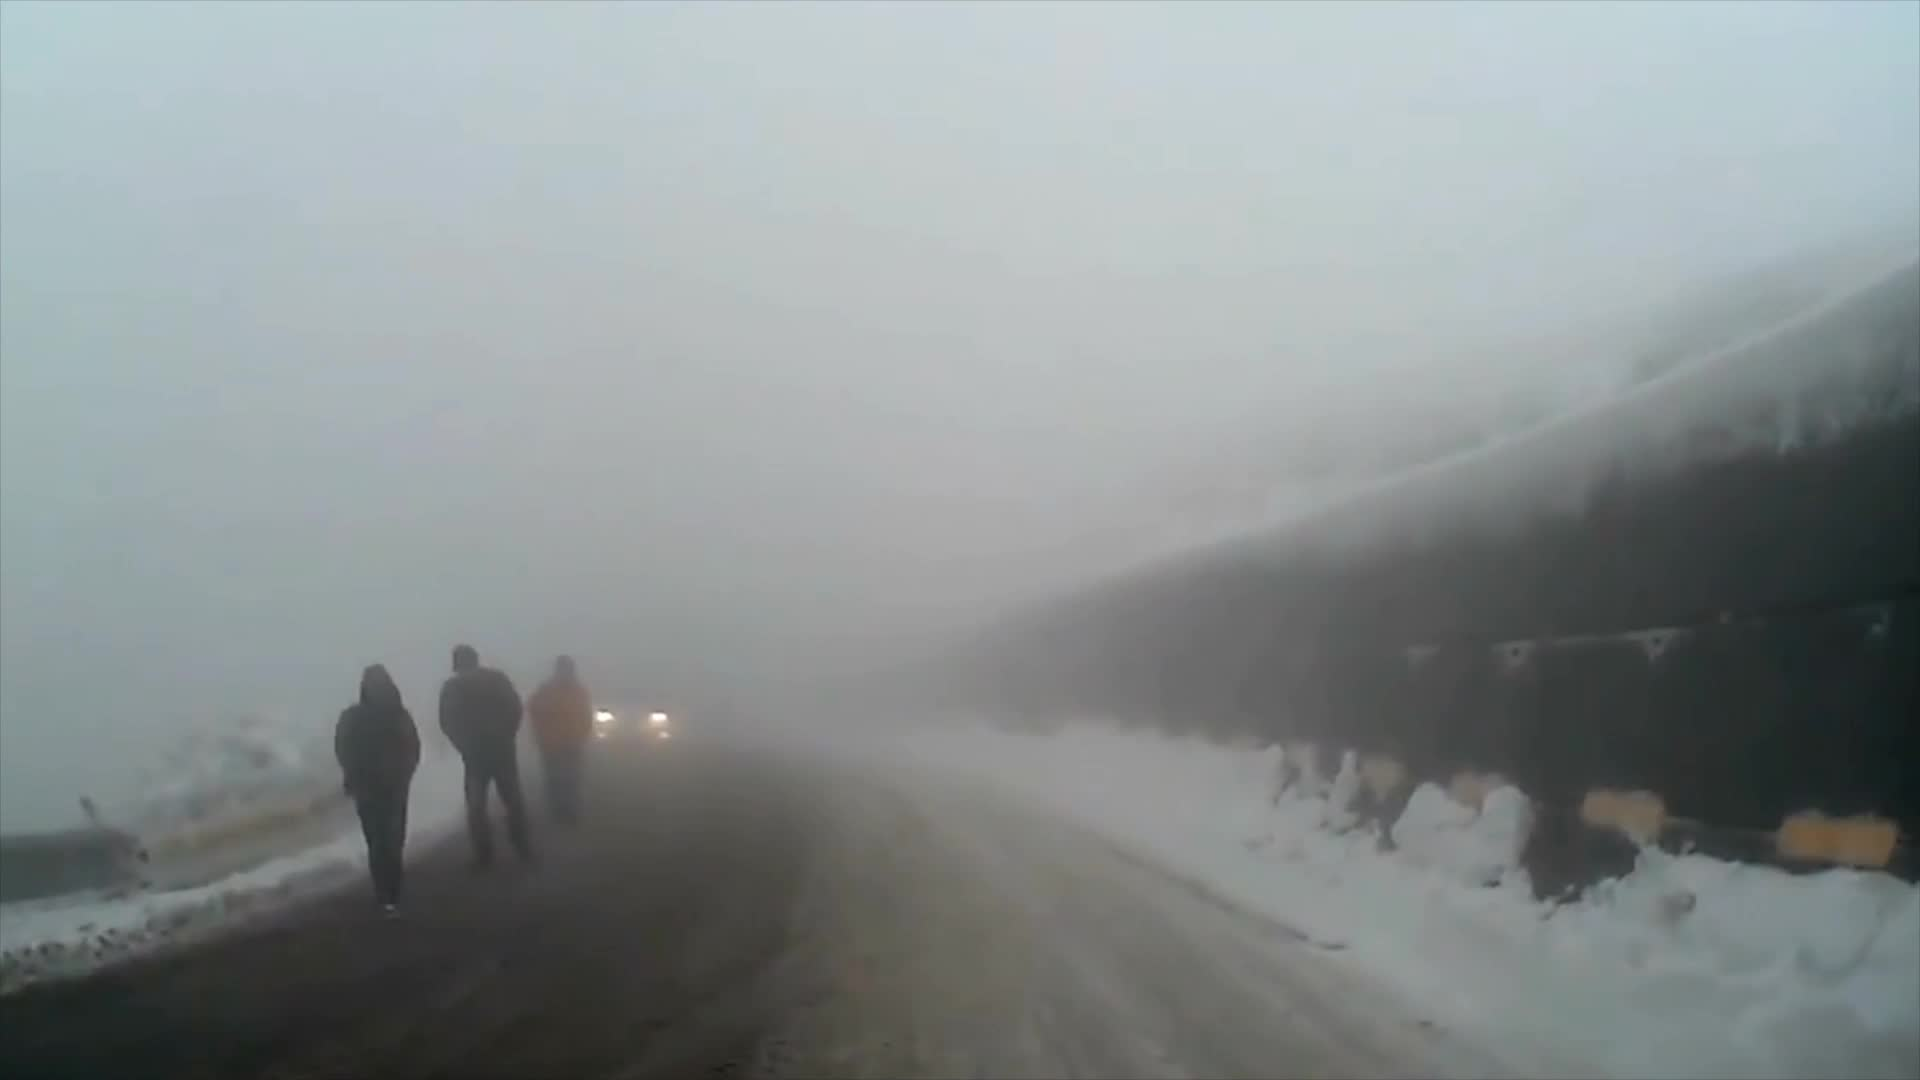pedestrian: (337, 663, 422, 908), (437, 643, 526, 869), (528, 655, 595, 828)
vehicle: (584, 681, 677, 760)
